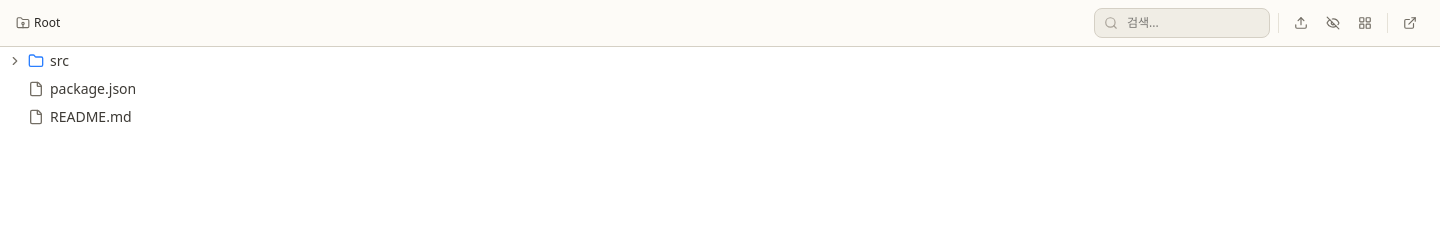
Scenario: FileExplorerTab › updates breadcrumb when directory is expanded
The image size is (1440, 233).
Expand src directory (triggers onNavigate)
Click the text "src": (59, 61) [50,51,69,71]
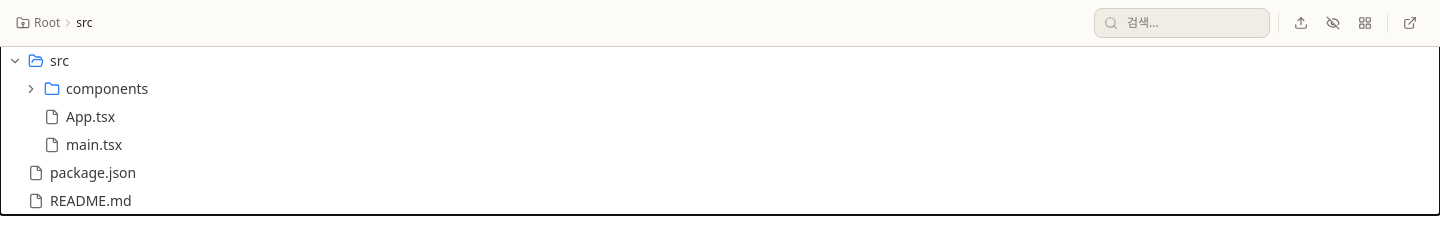
Expected: the text "App.tsx" is shown, [66,107,115,127]
Expected: the 1st text "src" is shown, [76,15,92,31]
Click Root to reset breadcrumb
Click the button "Root": (38, 23) [16,15,60,31]
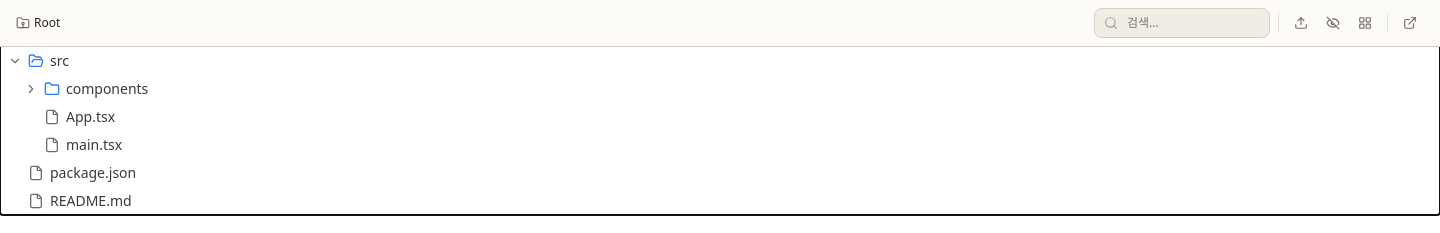
Expected: the element showing "Root" is shown, [16,15,60,31]
